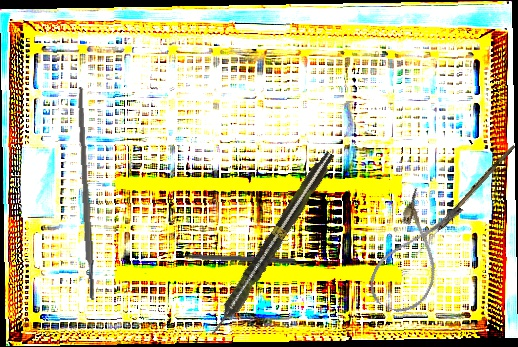Cannula: (362, 186, 467, 321)
Handpiece: (204, 148, 339, 340)
Pusher: (166, 250, 296, 265)
Scalpel Handle: (75, 86, 96, 301)
Surgical Spoon: (411, 142, 516, 261)
